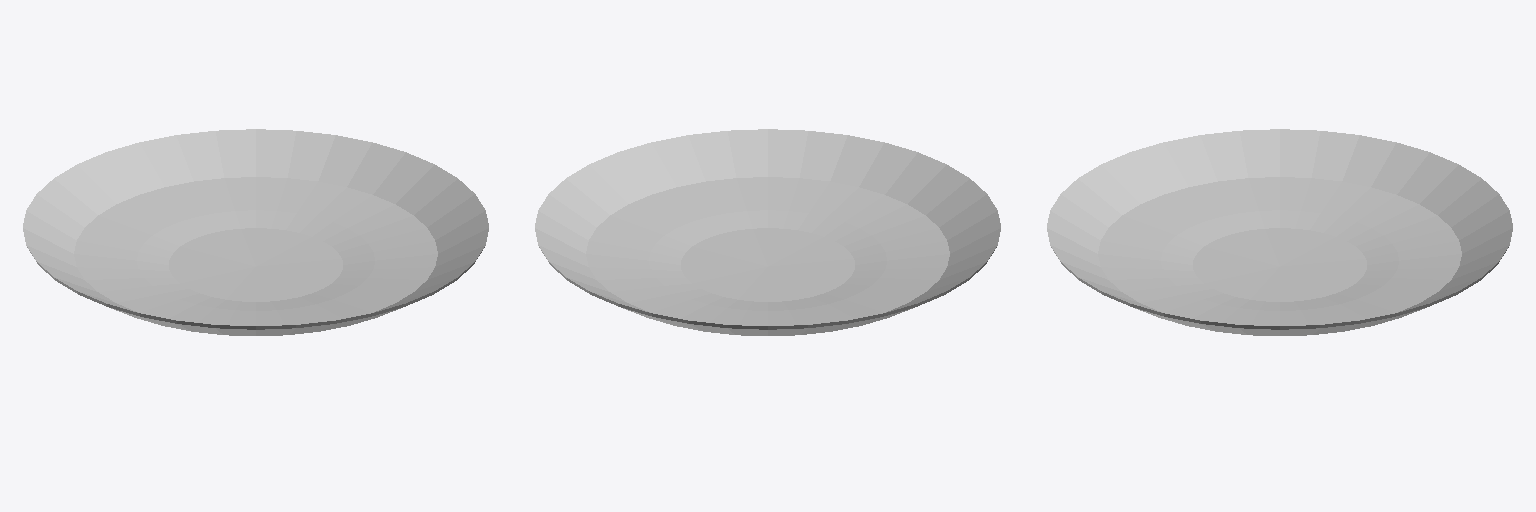
The model's file is saucer3.obj.
The picture shows the model from 3 angles: view 1: azimuth 30°, elevation 25°; view 2: azimuth 150°, elevation 25°; view 3: azimuth 270°, elevation 25°; orthographic projection.
Parts seen in each view (by area): view 1: saucer3; view 2: saucer3; view 3: saucer3.
Boxes of the visible parts, box(x1,y1,x2,y2) form: saucer3: box(23, 129, 488, 335); saucer3: box(535, 129, 1000, 335); saucer3: box(1047, 129, 1512, 335).
Bounding box in the file's own units: 91.15 × 12.15 × 91.15.